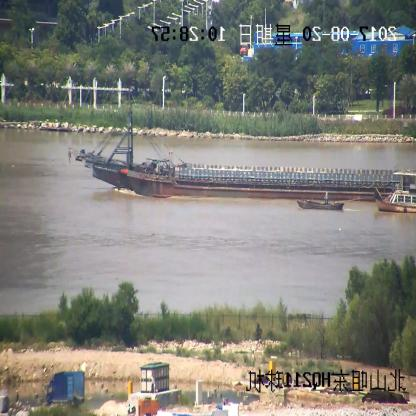Fishing Boat: (374, 172, 416, 212), (298, 192, 342, 211)
